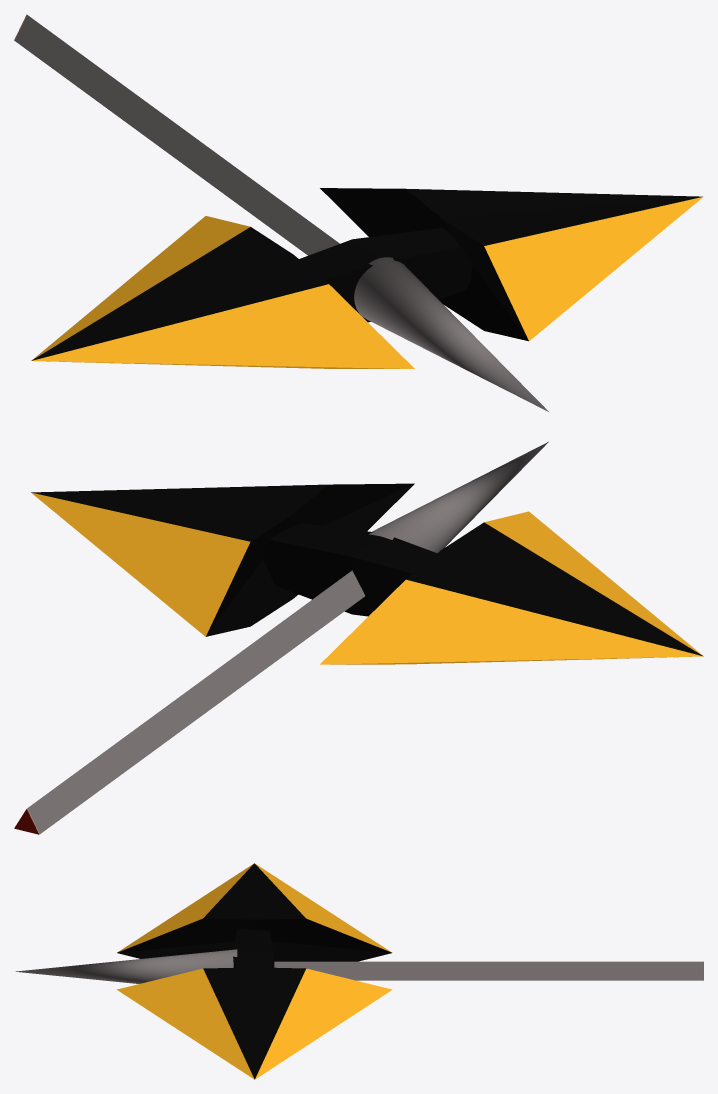
File: PlayerWeapon.gltf
3 renders of one model, top to bottom at view 1: azimuth 30°, elevation 25°; view 2: azimuth 150°, elevation 25°; view 3: azimuth 270°, elevation 25°, orthographic. The views are drawn at different scales.
Visible parts, largest first — view 1: 円柱; view 2: 円柱; view 3: 円柱.
Part boxes in pixels (<box>): 円柱: <box>14,14,703,411</box>; 円柱: <box>14,441,703,834</box>; 円柱: <box>15,863,703,1079</box>.
Bounding box in the file's own units: 4.59 × 0.553 × 6.18.
1 material, 1 textured.
